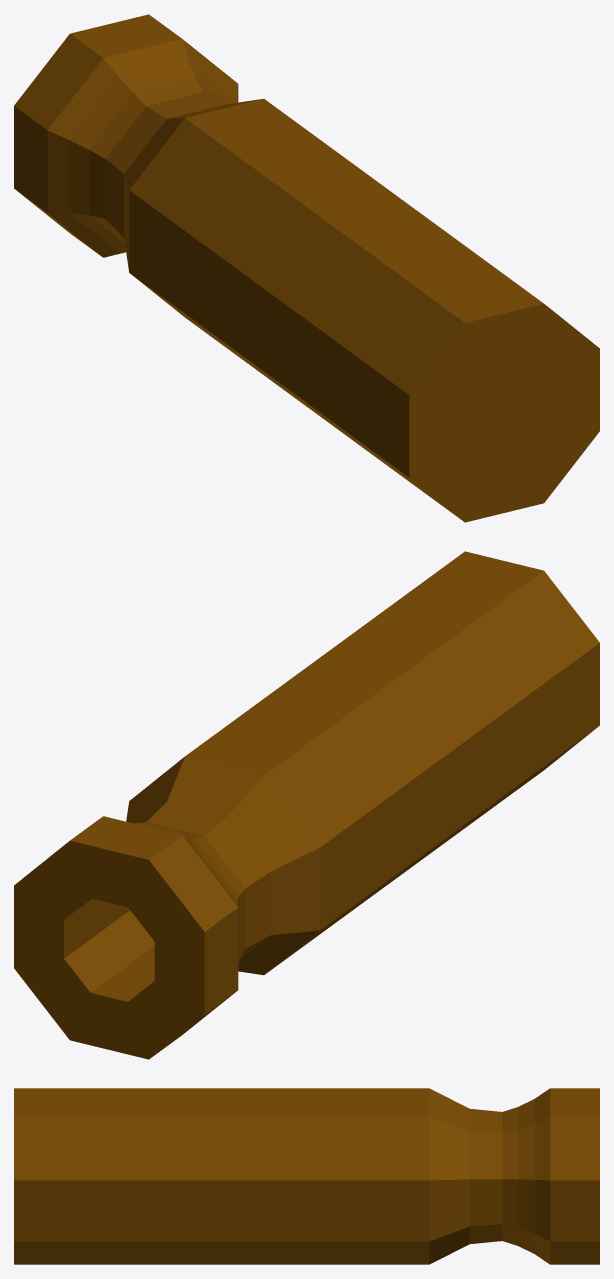
Rendered from handle.dae.
3 renders of one model, top to bottom at view 1: azimuth 30°, elevation 25°; view 2: azimuth 150°, elevation 25°; view 3: azimuth 270°, elevation 25°, orthographic. The views are drawn at different scales.
Parts seen in each view (by area): view 1: Cylinder.001; view 2: Cylinder.001; view 3: Cylinder.001.
Part boxes in pixels (x1,y1,x2,y2): Cylinder.001: (14,14,599,522); Cylinder.001: (14,551,599,1059); Cylinder.001: (14,1088,599,1264).
Size of the model in its own units: 0.0335 by 0.1201 by 0.0335.
